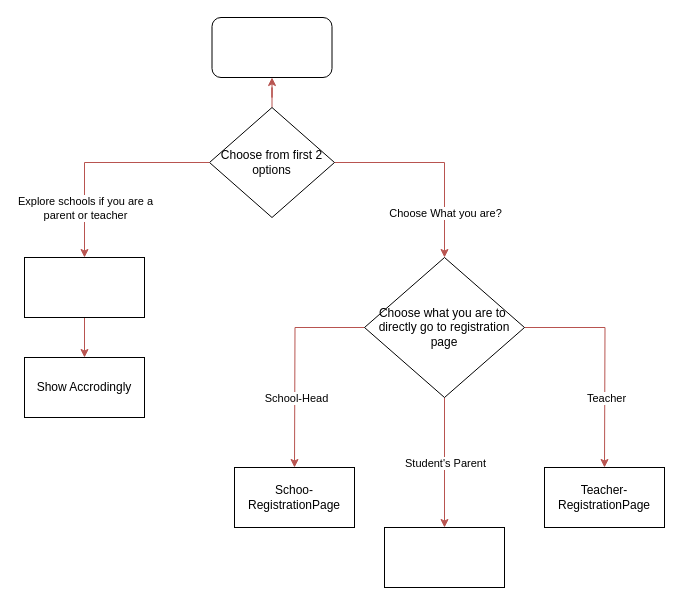
Image size: 682x605. Some labels were removed from this diagram. Here are the shapes that lost their labels. From the top down, the centre of each, then its label:
the point at 271,47: Start
the point at 84,287: Explore Schools near me option
the point at 444,557: Student-RegistrationPage
